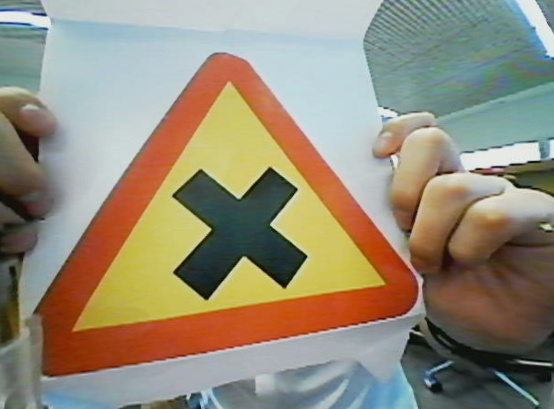junction: (40, 50, 427, 379)
